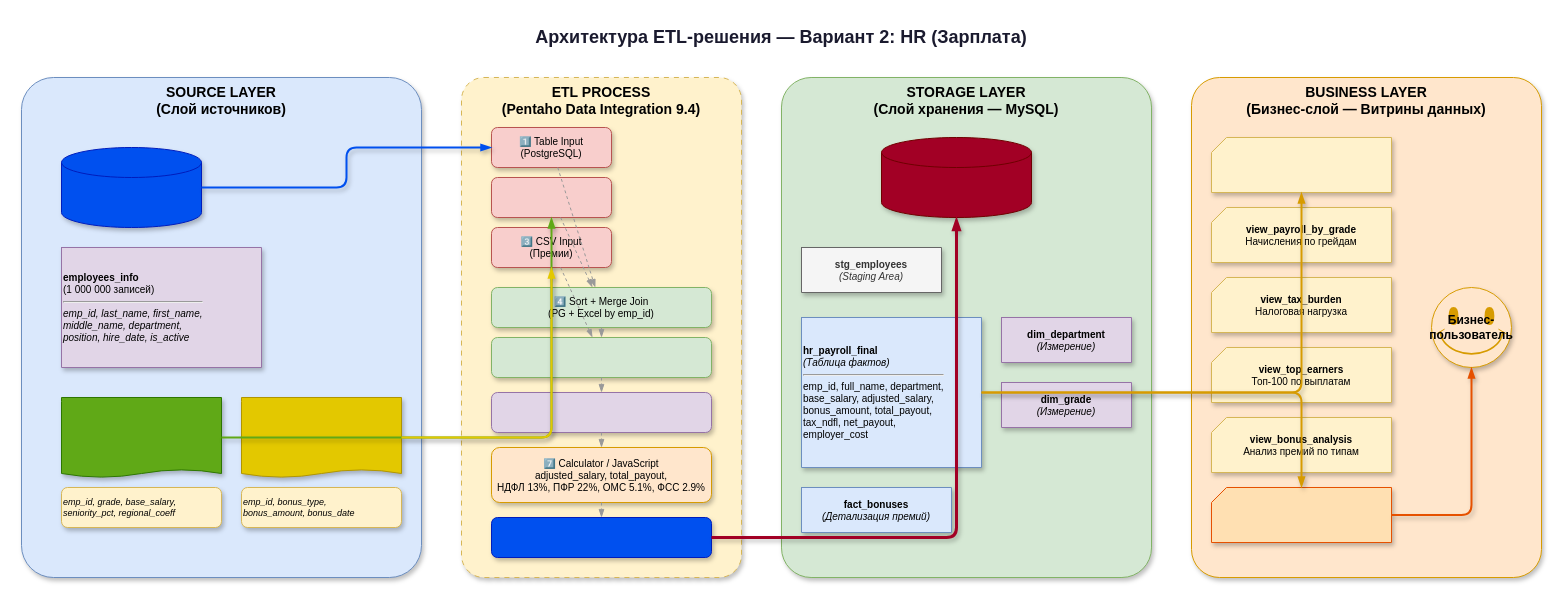
Image size: 1565x602. Some labels were removed from this diagram. The shapes that lost their labels are listed below. From the top down, each one's centre as x and y in pixels, then its label:
(957,178): MySQL 95.131.149.21:3306 БД: mgpu_ico_etl_XX
(1302,166): view_payroll_by_department Начисления по отделам
(132,188): PostgreSQL localhost:5432 БД: st_200
(552,198): 2️⃣ Excel Input (Оклады)
(602,358): 5️⃣ Sort + Merge Join (Результат + CSV by emp_id)
(602,414): 6️⃣ Filter Rows (Удаление NULL / дублей)
(142,438): 📊 Excel salaries_source.xlsx (50 000 записей)
(322,438): 📄 CSV bonuses_source.csv (50 000 записей)
(1302,516): view_analytics_report Итоговая аналитическая витрина
(602,538): 8️⃣ Table Output → MySQL hr_payroll_final
